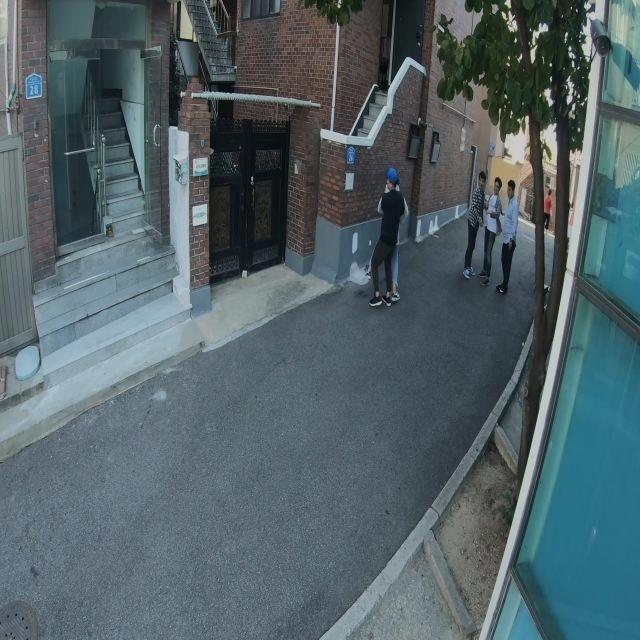fight: (365, 170, 408, 308)
non-fight: (494, 176, 521, 296)
